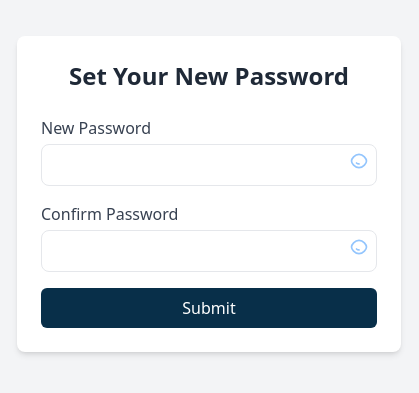
ResetPassword Component › shows error message if the backend returns an error
Note: Simulate entering matching passwords
In the password field with test id "password-input": (209, 165) [41,144,377,186], type "password1"
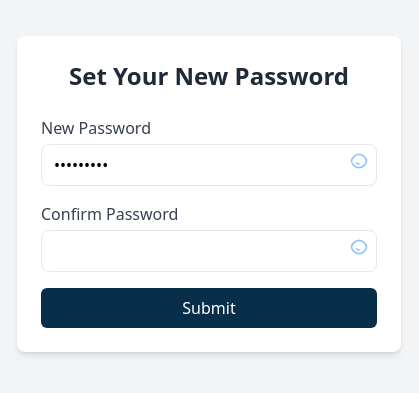
In the password field with test id "confirm-password-input": (209, 251) [41,230,377,272], type "password1"
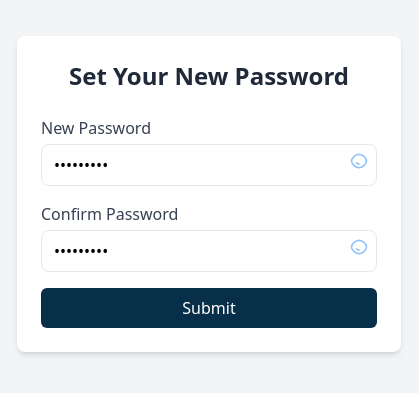
Click the button with test id "submit-button": (209, 308) [41,288,377,328]
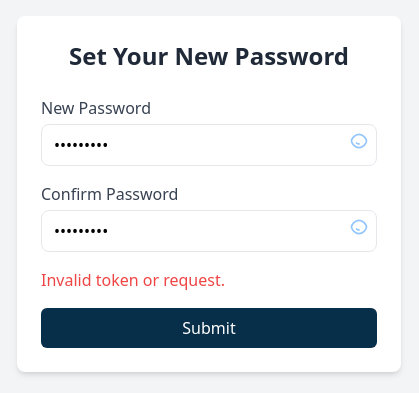
Expected: the text with test id "error-message" reads "Invalid token or request.", [41,269,225,291]
